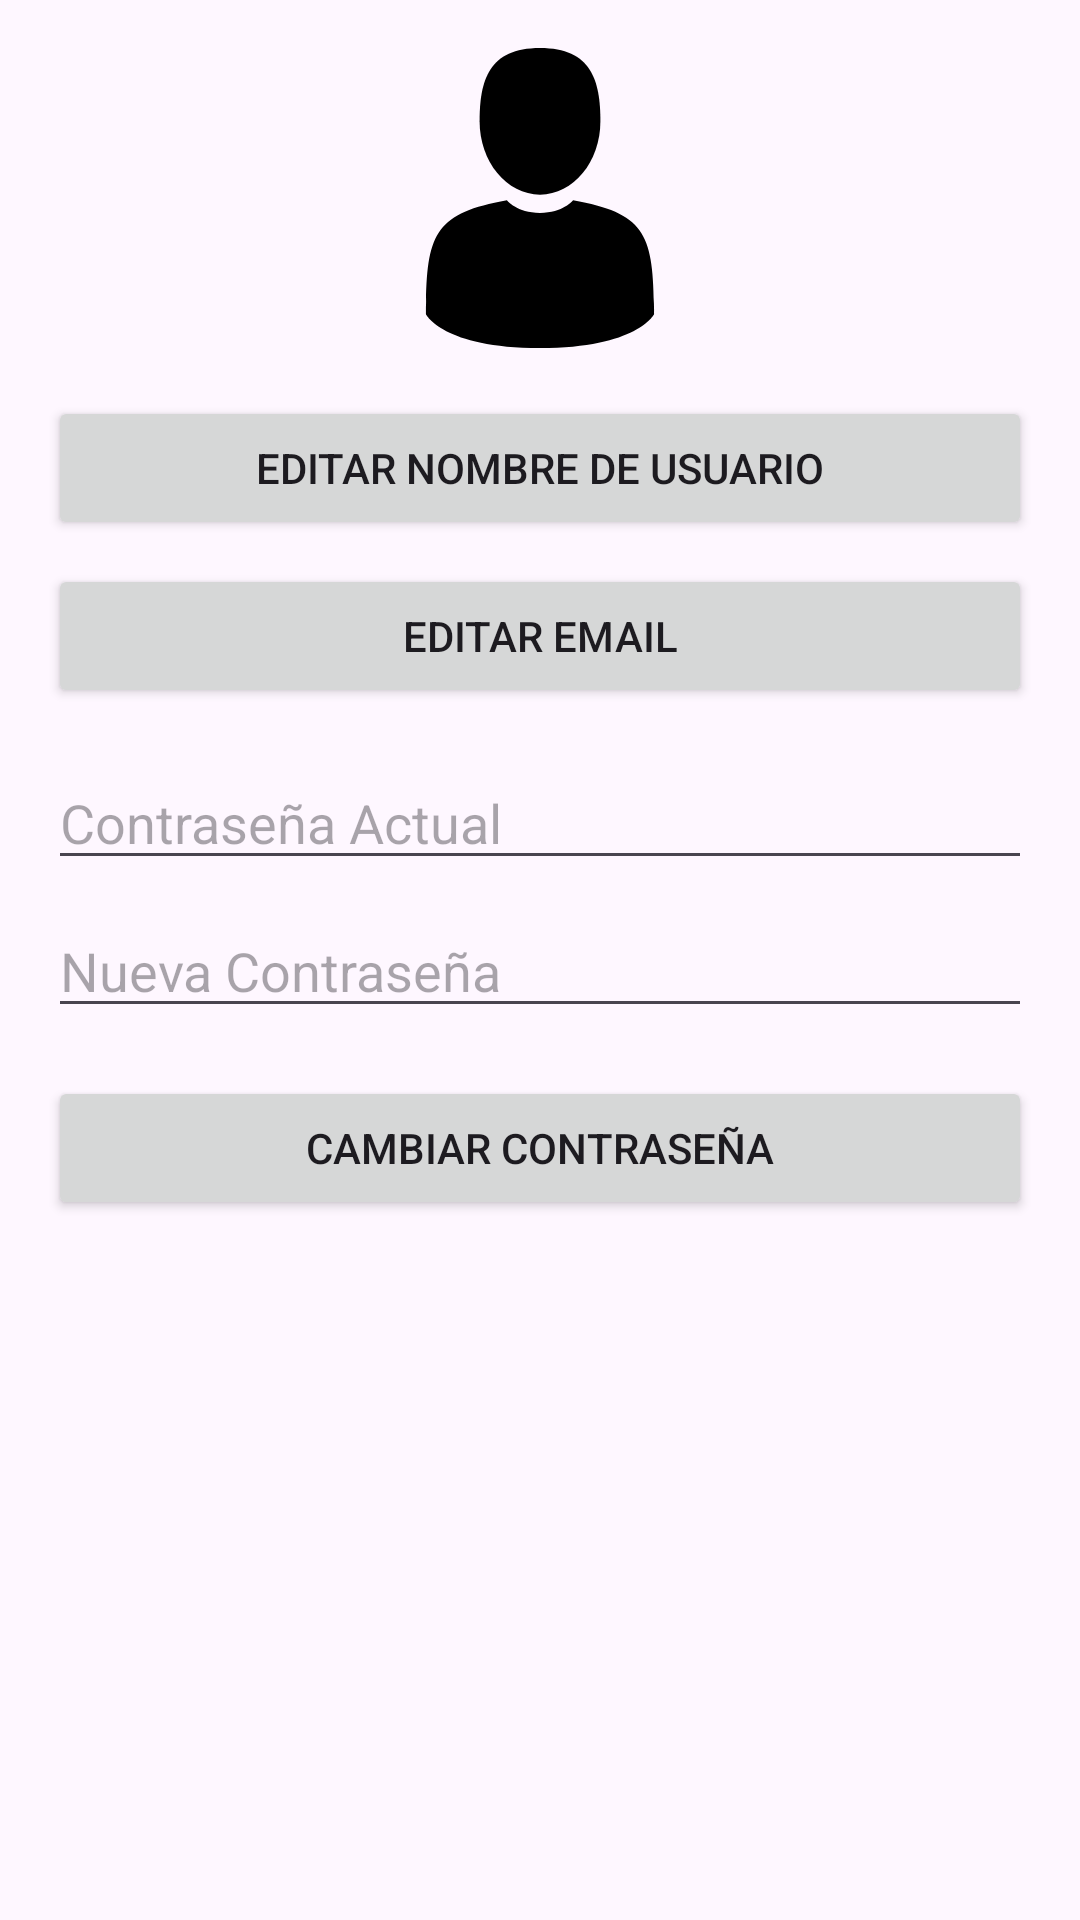

Named icons in this screenshot (1080x1920) and their centers, (x,y):
man user: (540,198)
